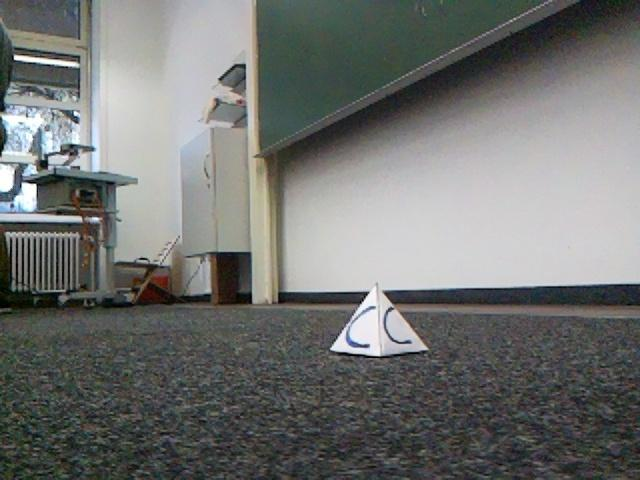C: (330, 279, 429, 358)
